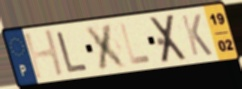H: (22, 28, 67, 82)
K: (179, 12, 215, 58)
L: (118, 21, 153, 67), (56, 30, 90, 75)
X: (82, 21, 131, 72), (148, 13, 190, 66)
